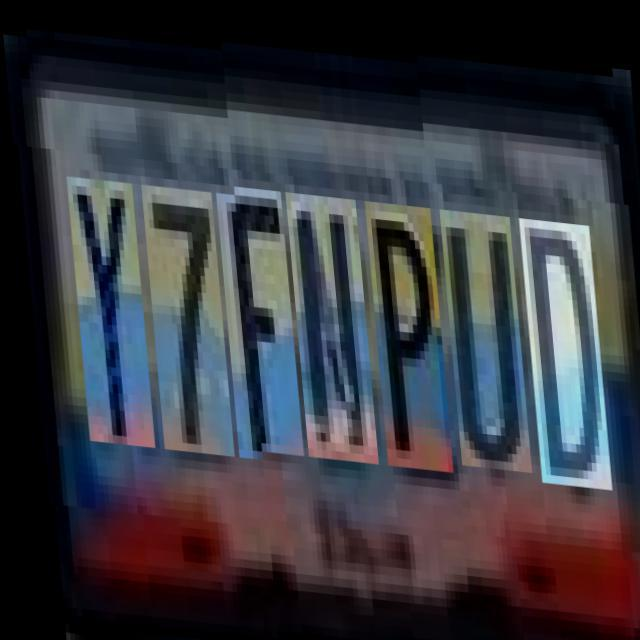7: (137, 164, 225, 436)
D: (516, 206, 604, 477)
F: (212, 172, 296, 442)
N: (282, 178, 370, 448)
P: (361, 184, 445, 454)
U: (436, 199, 524, 461)
Y: (62, 158, 146, 428)
